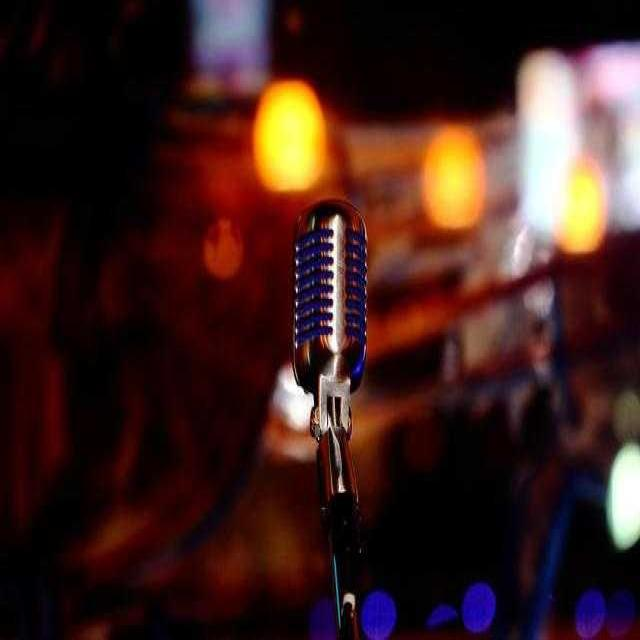microphone: (291, 198, 369, 409)
